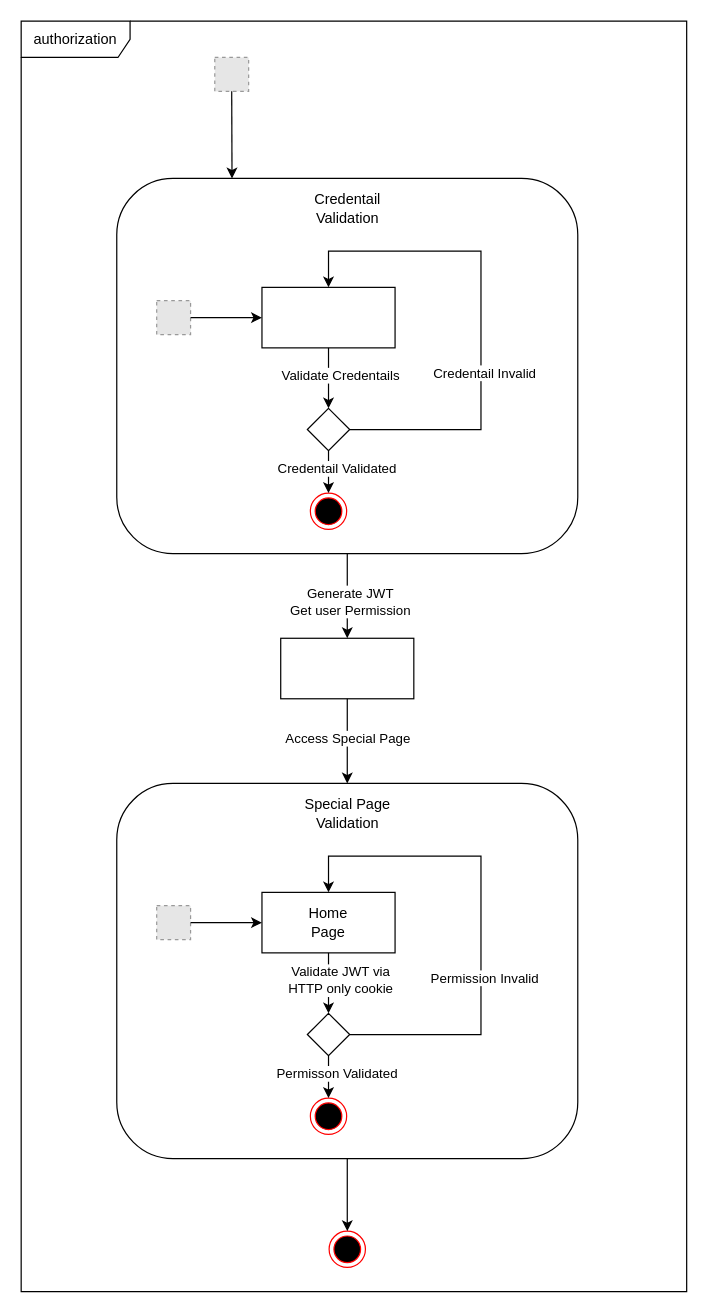
The diagram is 708 pixels wide and 1313 high, and some of its shapes have lost their labels. Grey dashed boxes stand in for pictures. Here are the shapes that lost their labels. From the top down, the centre of each, then its label:
At (x=328, y=317): "Login Attempt".
At (x=347, y=668): "Logged In Home Page".
